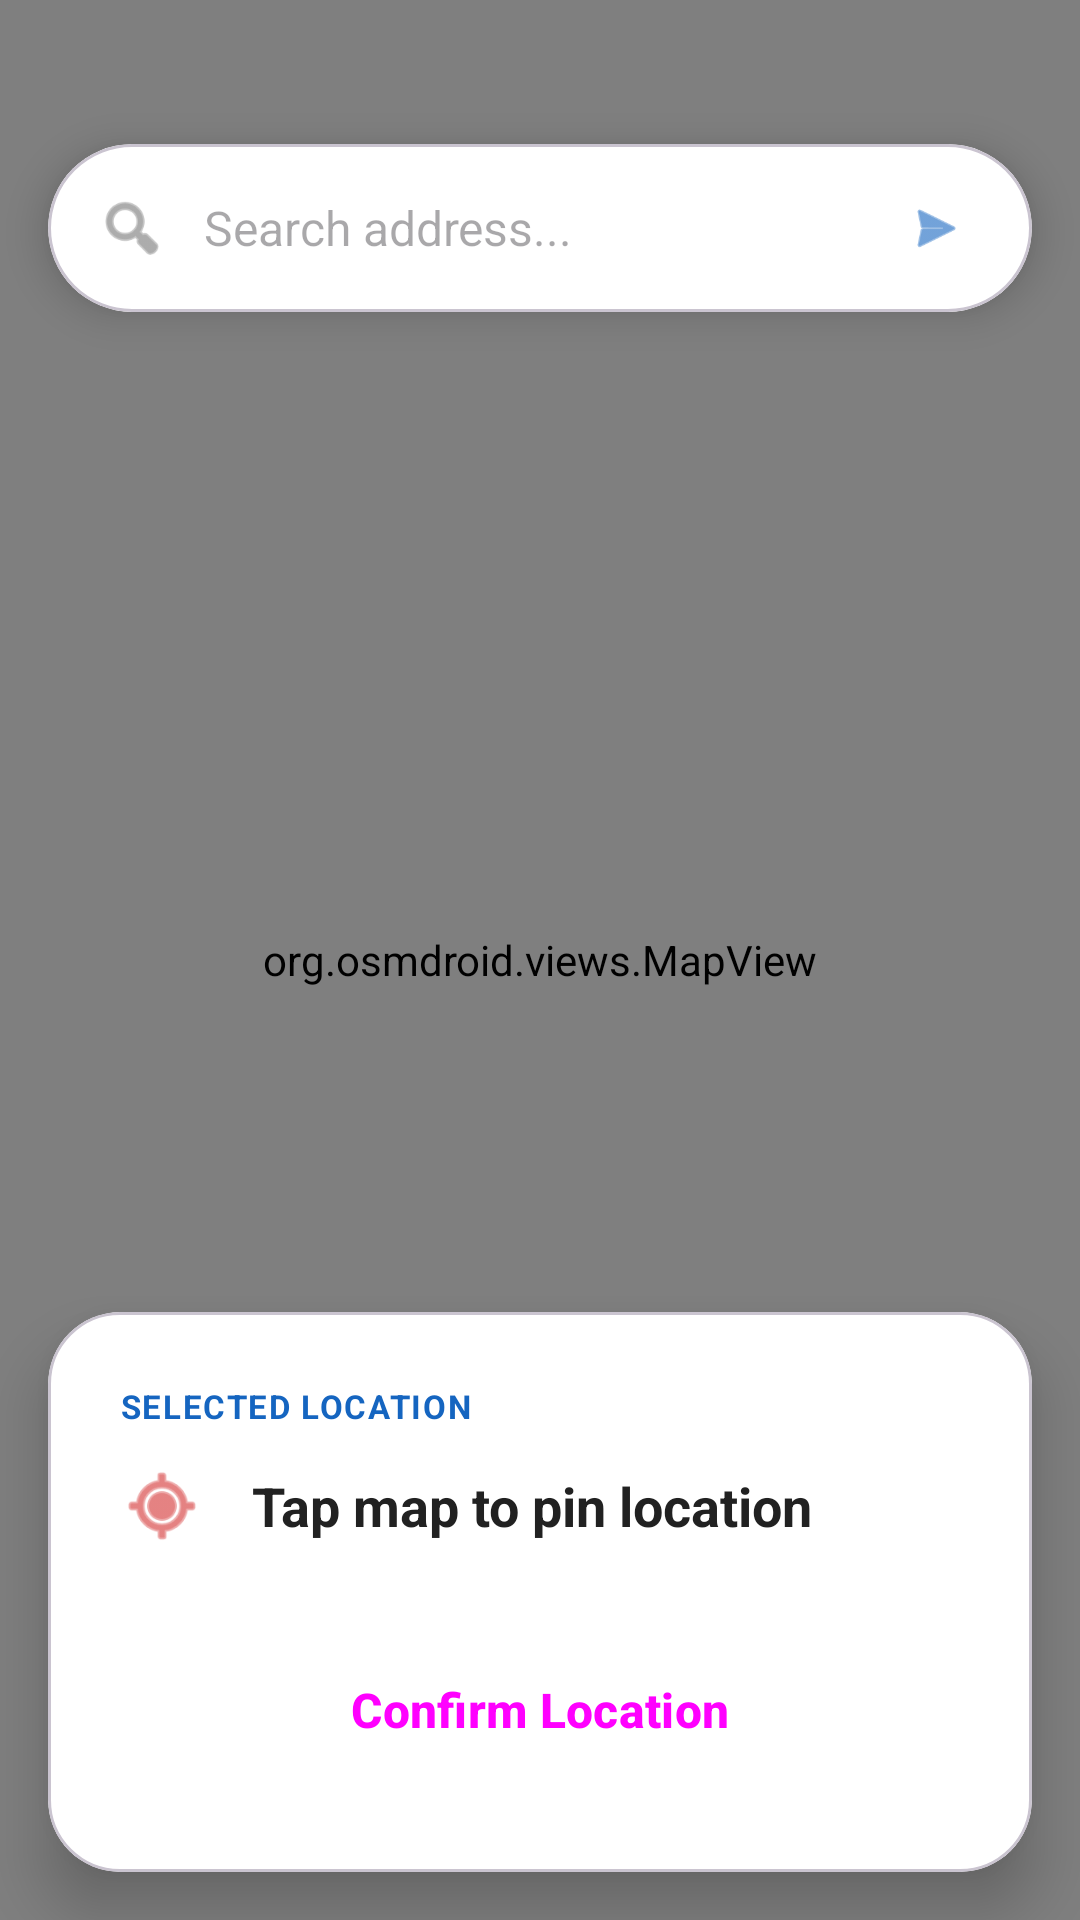

Where to tap for icons on this 1080×1920 app screen, as point (x, y):
mylocation: point (162, 1506)
send: point (936, 228)
